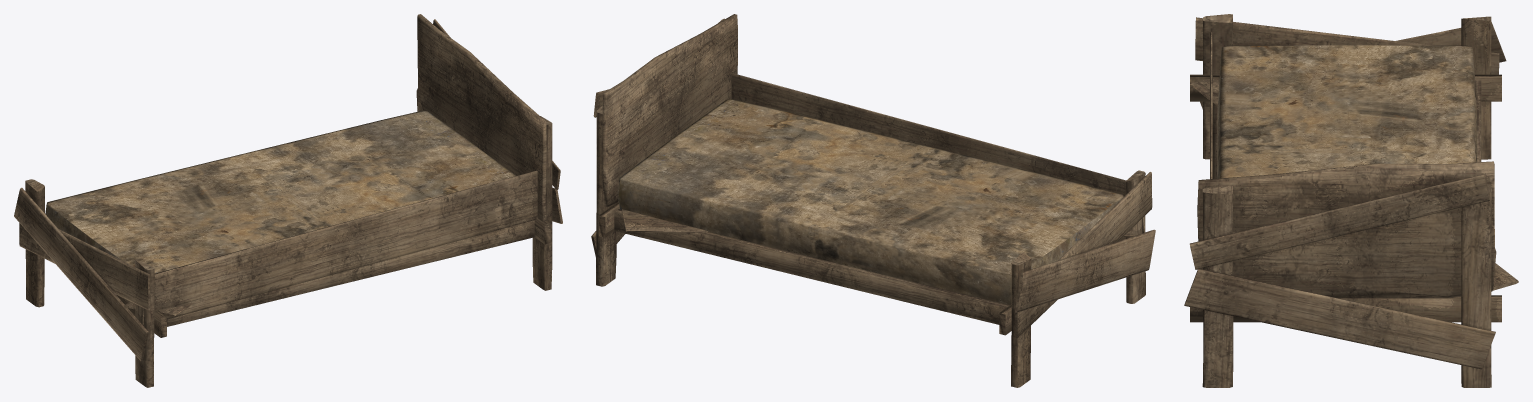
File: old_bed_-_low-poly_game_asset.glb
3 renders of one model, left to right at view 1: azimuth 30°, elevation 25°; view 2: azimuth 150°, elevation 25°; view 3: azimuth 270°, elevation 25°, orthographic. The views are drawn at different scales.
Visible parts, largest first — view 1: OldBed; view 2: OldBed; view 3: OldBed.
Boxes of the visible parts, x1,y1,x2,y2 form: OldBed: (14,14,562,387); OldBed: (591,14,1155,387); OldBed: (1184,14,1518,387).
Bounding box in the file's own units: 2.39 × 1.03 × 1.42.
Materials: 1 (1 with a texture image).
